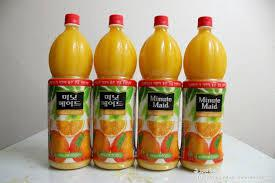minutemaid_org_orange: (182, 12, 235, 173), (44, 6, 92, 174), (93, 7, 137, 172), (139, 10, 180, 175)
